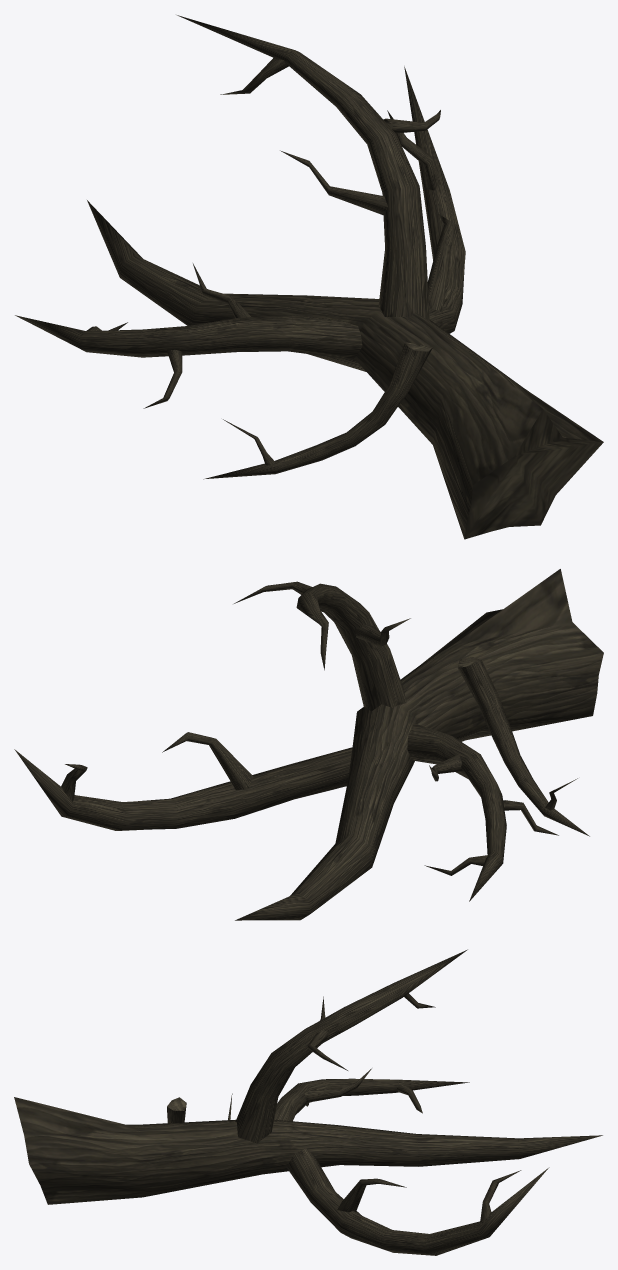
File: Tree07.FBX
3 renders of one model, top to bottom at view 1: azimuth 30°, elevation 25°; view 2: azimuth 150°, elevation 25°; view 3: azimuth 270°, elevation 25°, orthographic. The views are drawn at different scales.
Parts seen in each view (by area): view 1: Tree07; view 2: Tree07; view 3: Tree07.
Boxes of the visible parts, x1=… form: Tree07: x1=15, y1=15, x2=603, y2=539; Tree07: x1=14, y1=569, x2=603, y2=920; Tree07: x1=14, y1=949, x2=602, y2=1255.
Bounding box in the file's own units: 35.14 × 23.88 × 55.71.
